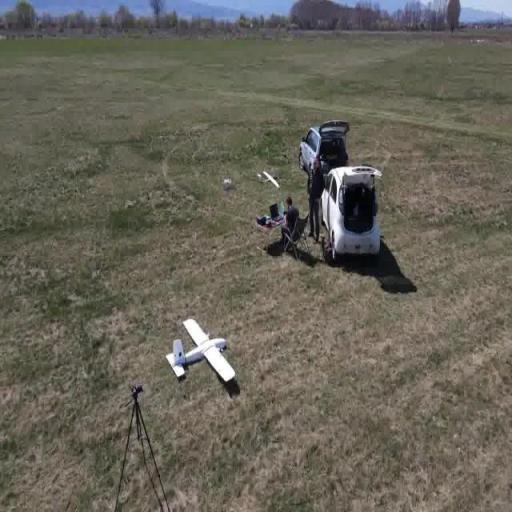uav: (164, 314, 244, 394)
